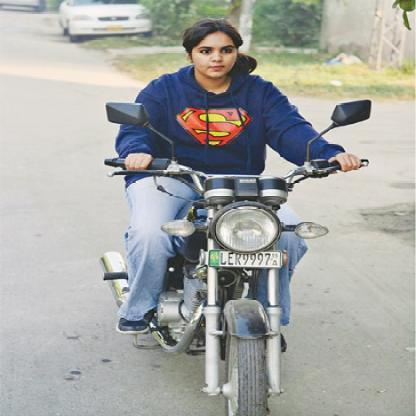nohelmet: (184, 20, 244, 81)
